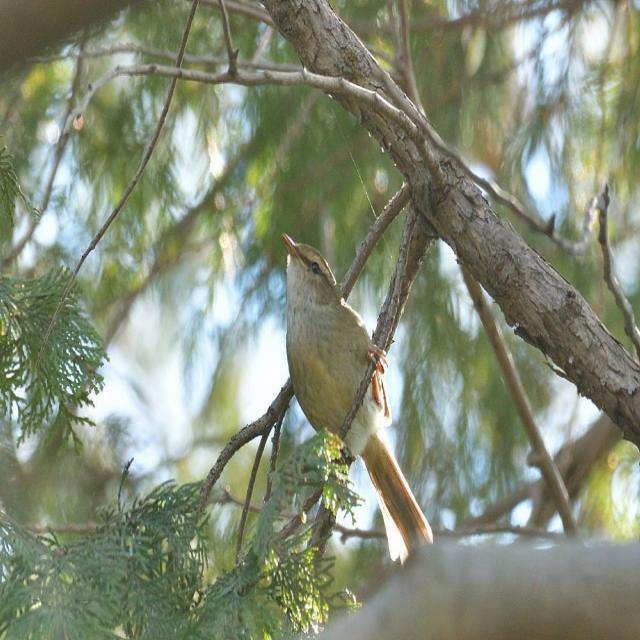bird: (265, 224, 439, 560)
